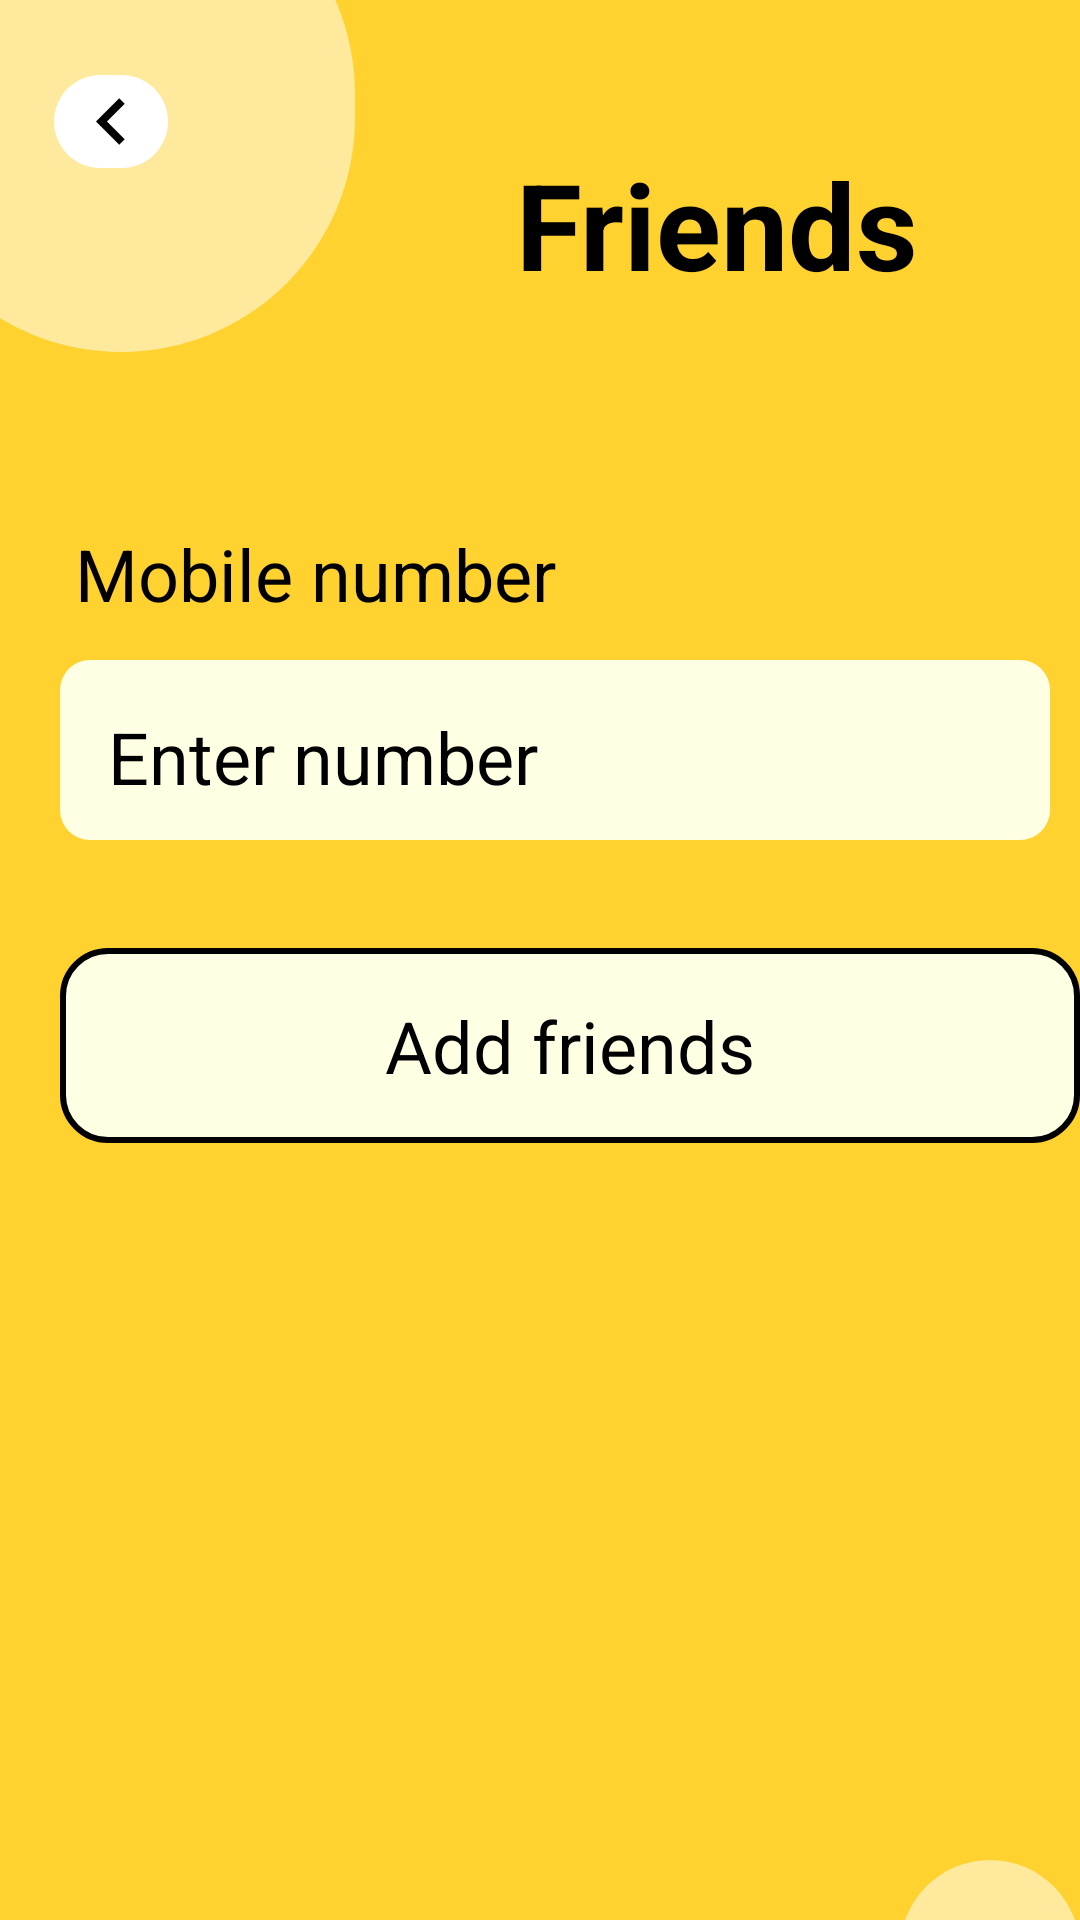

Screen size 1080px x 1920px. Icon name, then its box in pixels as rect(x1, y1, x2, y2):
arrow: rect(54, 75, 168, 168)
